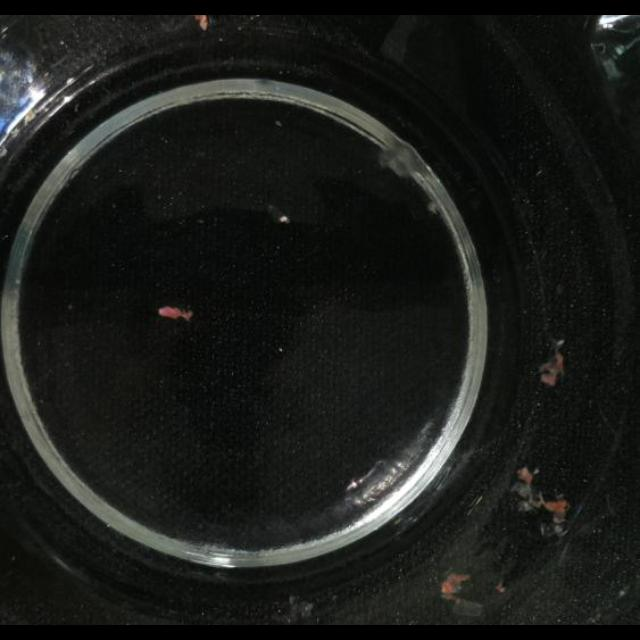Fragment: (512, 463, 572, 533), (536, 346, 566, 386), (440, 572, 474, 602), (157, 304, 191, 322), (266, 205, 288, 225)
